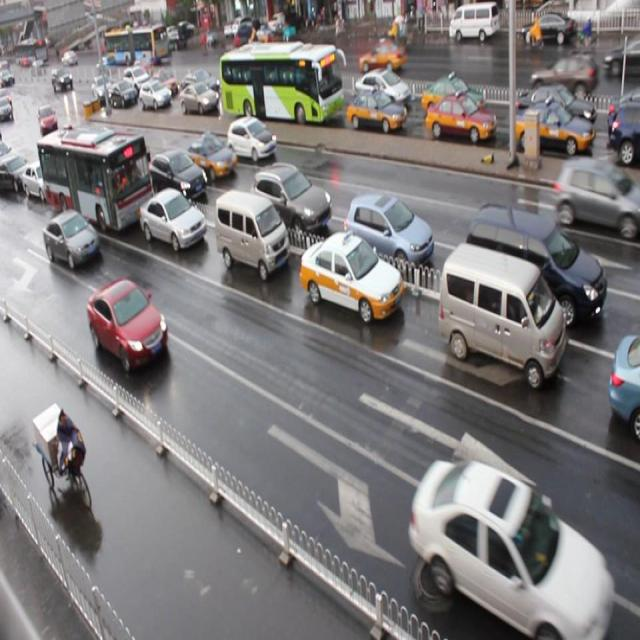car: (413, 455, 606, 631), (298, 228, 402, 322), (86, 278, 168, 374), (342, 194, 433, 278), (251, 162, 331, 234), (513, 99, 592, 157), (137, 186, 205, 251), (425, 92, 495, 142), (607, 331, 640, 437), (44, 208, 100, 270), (512, 85, 588, 130), (147, 149, 208, 204), (423, 74, 488, 120), (345, 86, 405, 133), (184, 136, 237, 183), (354, 69, 409, 111), (227, 115, 276, 161), (608, 98, 640, 160), (21, 158, 59, 202), (607, 92, 640, 138), (178, 82, 219, 116), (254, 68, 291, 103), (1, 152, 31, 193), (74, 130, 106, 166), (139, 78, 170, 113), (188, 69, 224, 98), (147, 69, 175, 96), (108, 80, 135, 108), (123, 65, 149, 93)
truck: (437, 240, 564, 388), (465, 200, 605, 330), (212, 187, 288, 279)
van: (36, 126, 154, 234), (216, 43, 340, 123)
